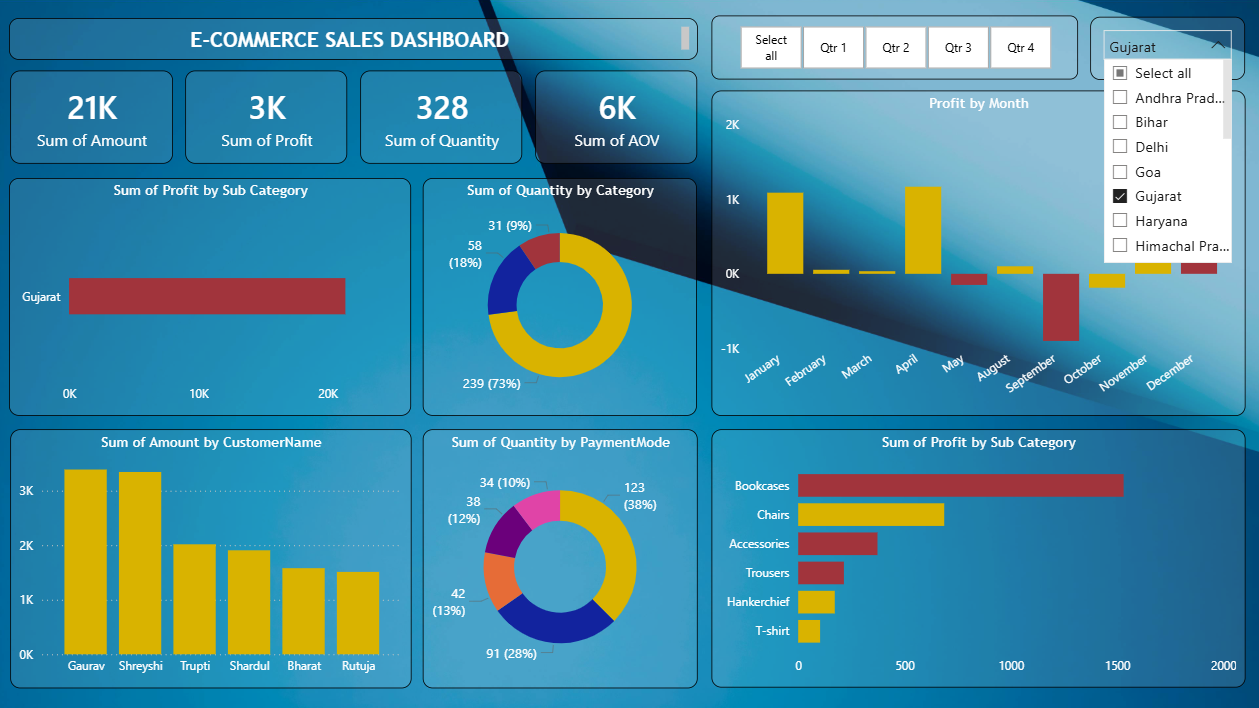

What the dashboard file says about the page in this screenshot:
{"tool":"powerbi","page":{"name":"Page 1","canvas":[1280,720],"ordinal":0},"visuals":[{"type":"textbox","box":[10.5,20,697.9,42.1],"z":0},{"type":"columnChart","title":"Profit by Month","fields":{"Category":["Orders.Order Date.Variation.Date Hierarchy.Year","Orders.Order Date.Variation.Date Hierarchy.Quarter","Orders.Order Date.Variation.Date Hierarchy.Month","Orders.Order Date.Variation.Date Hierarchy.Day"],"Y":["Sum(Details.Profit)"]},"box":[721.5,94.1,540.5,329.4],"z":1000},{"type":"barChart","title":"Sum of Profit by Sub Category","fields":{"Category":["Details.Sub-Category"],"Y":["Sum(Details.Profit)"]},"box":[721.5,436.7,540.5,261.8],"z":2000},{"type":"donutChart","fields":{"Y":["Sum(Details.Quantity)"],"Category":["Details.PaymentMode"]},"box":[429.5,436.4,278.6,262.1],"z":3000},{"type":"donutChart","fields":{"Y":["Sum(Details.Quantity)"],"Category":["Details.Category"]},"box":[429.5,182.1,277.9,241.1],"z":4000},{"type":"cardVisual","fields":{"Data":["Sum(Details.Amount)"]},"box":[11,73.1,164.7,94.7],"z":5000},{"type":"cardVisual","fields":{"Data":["Sum(Details.Profit)"]},"box":[188.2,73.5,164.1,94.1],"z":6000},{"type":"cardVisual","fields":{"Data":["Sum(Details.Quantity)"]},"box":[365.6,73.5,164.1,94.1],"z":7000},{"type":"cardVisual","fields":{"Data":["Sum(Details.AOV)"]},"box":[542.9,73.5,164.1,94.1],"z":8000},{"type":"barChart","title":"Sum of Profit by Sub Category","fields":{"Category":["Orders.State"],"Y":["Sum(Details.Amount)"]},"box":[10.5,182.1,407.4,241.1],"z":9000},{"type":"columnChart","fields":{"Category":["Orders.CustomerName"],"Y":["Sum(Details.Amount)"]},"box":[11,436.4,406.2,262.1],"z":10000},{"type":"slicer","fields":{"Values":["Orders.Order Date.Variation.Date Hierarchy.Quarter"]},"box":[721.5,18.1,371.6,65.1],"z":11000},{"type":"slicer","fields":{"Values":["Orders.State"]},"box":[1105.1,19.3,156.8,63.9],"z":12000}]}

Visuals, with their boxes in screenshot pixels (x1, y1, x2, y2), scaled from the page's 1280x720 canvas onto the 1259x708 screenshot:
textbox: {"x1": 10, "y1": 20, "x2": 697, "y2": 61}
"Profit by Month" columnChart: {"x1": 710, "y1": 93, "x2": 1241, "y2": 416}
"Sum of Profit by Sub Category" barChart: {"x1": 710, "y1": 429, "x2": 1241, "y2": 687}
donutChart - Sum(Details.Quantity) x Details.PaymentMode: {"x1": 422, "y1": 429, "x2": 696, "y2": 687}
donutChart - Sum(Details.Quantity) x Details.Category: {"x1": 422, "y1": 179, "x2": 696, "y2": 416}
cardVisual - Sum(Details.Amount): {"x1": 11, "y1": 72, "x2": 173, "y2": 165}
cardVisual - Sum(Details.Profit): {"x1": 185, "y1": 72, "x2": 347, "y2": 165}
cardVisual - Sum(Details.Quantity): {"x1": 360, "y1": 72, "x2": 521, "y2": 165}
cardVisual - Sum(Details.AOV): {"x1": 534, "y1": 72, "x2": 695, "y2": 165}
"Sum of Profit by Sub Category" barChart: {"x1": 10, "y1": 179, "x2": 411, "y2": 416}
columnChart - Orders.CustomerName x Sum(Details.Amount): {"x1": 11, "y1": 429, "x2": 410, "y2": 687}
slicer - Orders.Order Date.Variation.Date Hierarchy.Quarter: {"x1": 710, "y1": 18, "x2": 1075, "y2": 82}
slicer - Orders.State: {"x1": 1087, "y1": 19, "x2": 1241, "y2": 82}
